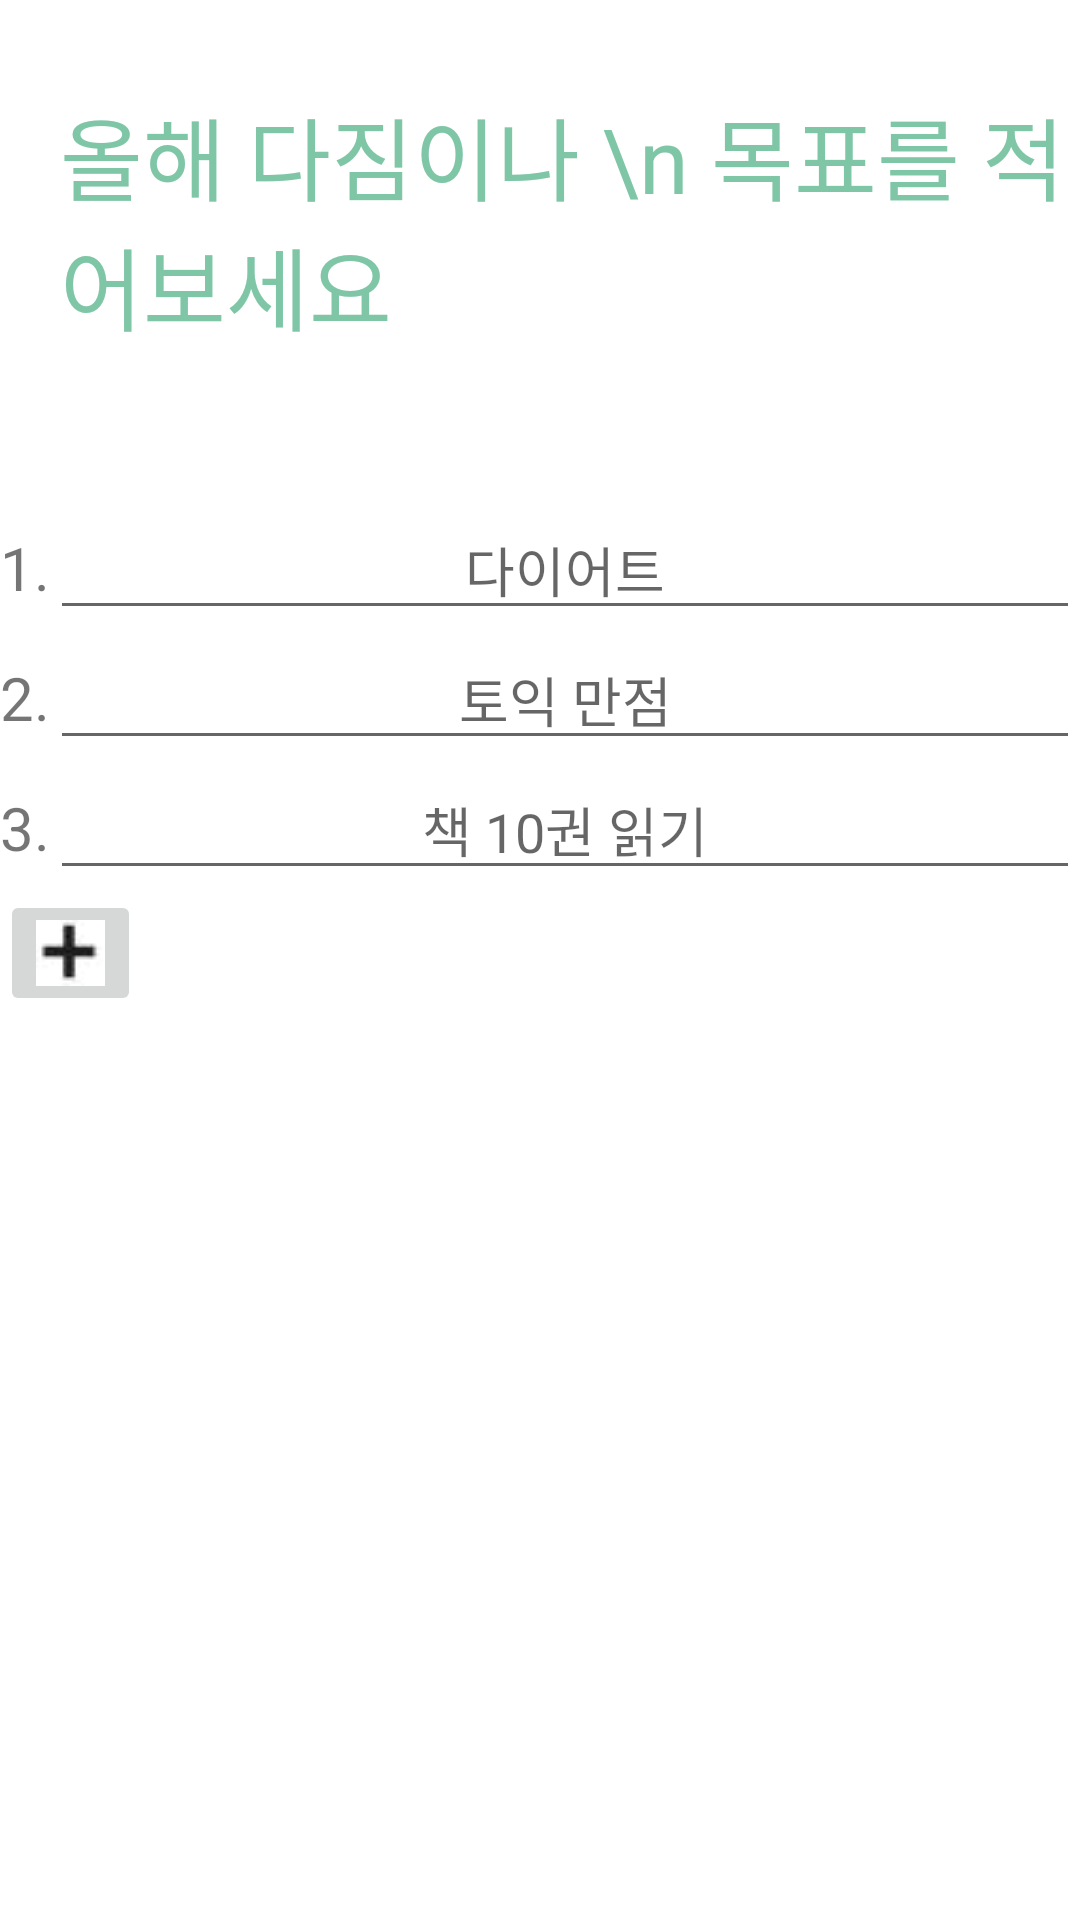

Screen size 1080px x 1920px. Icon name, then its center in pixels as (x,y):
plus: (70,953)
